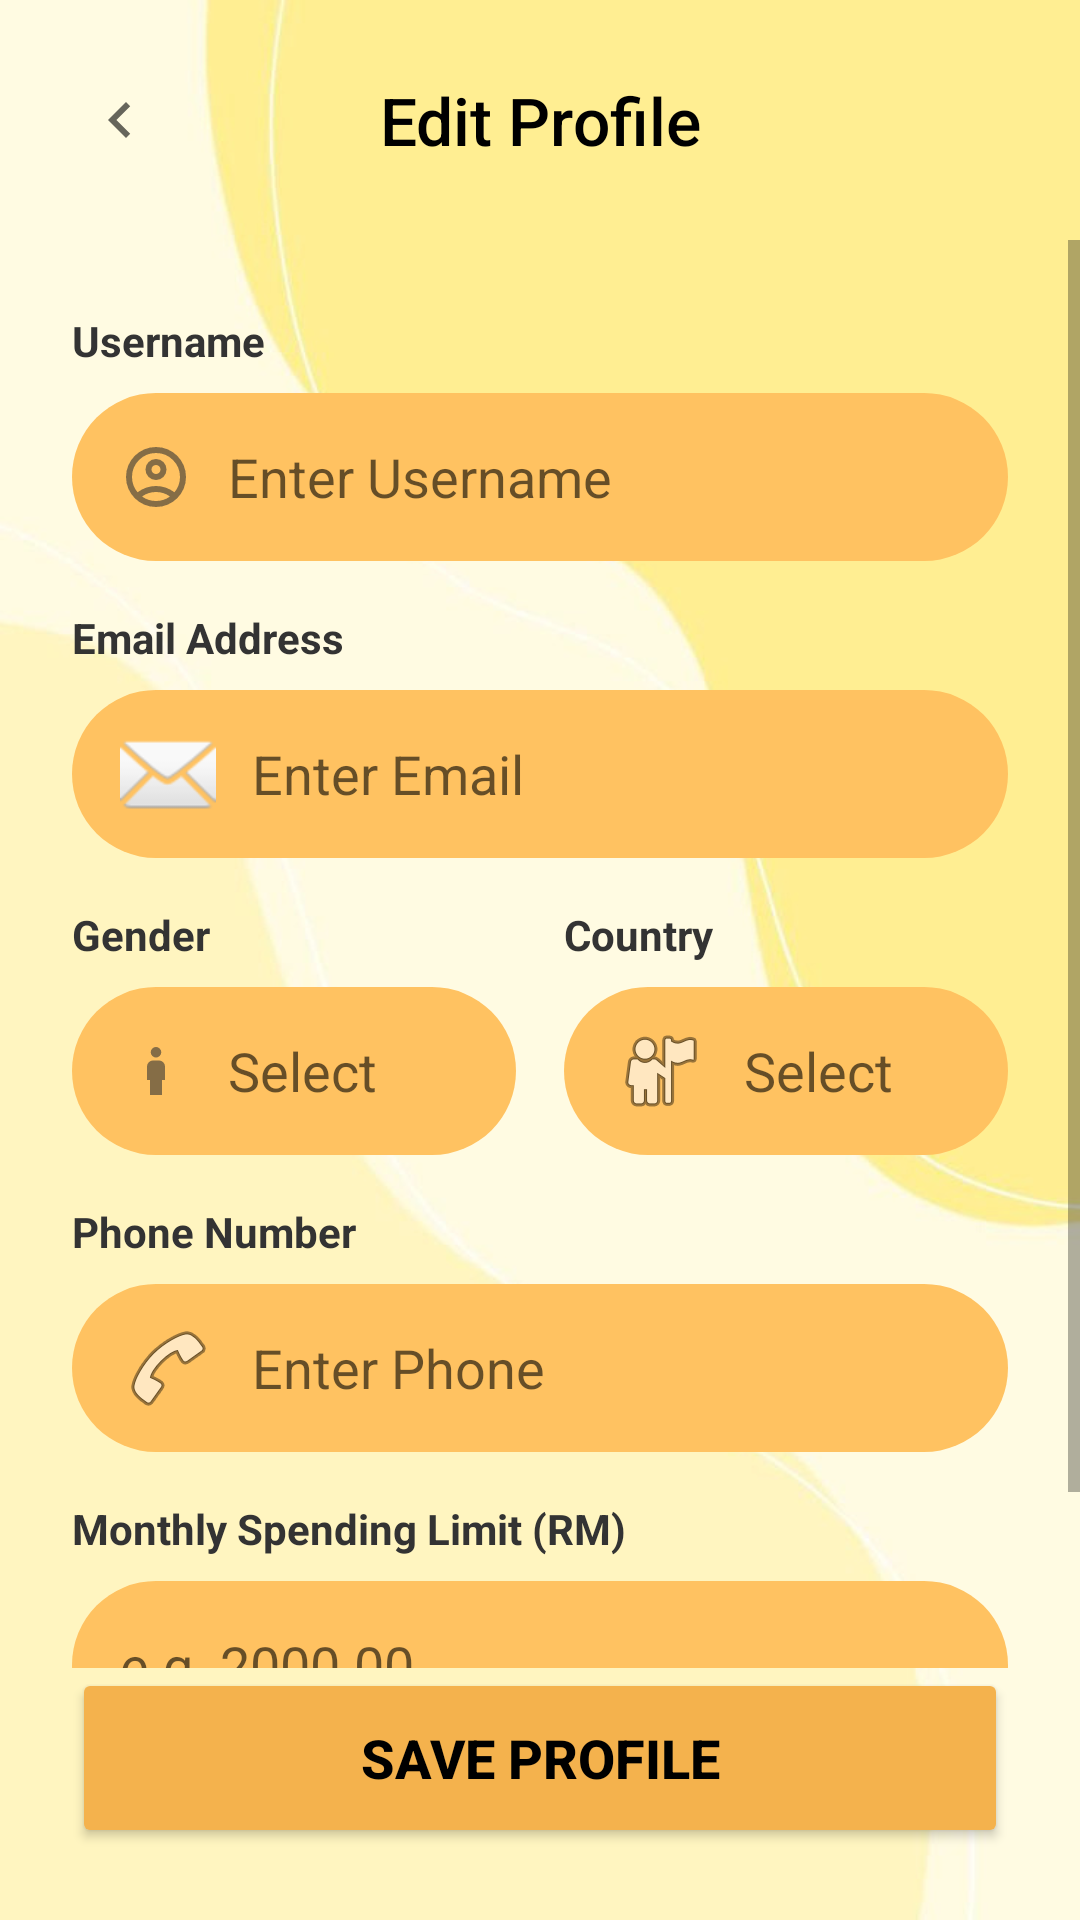

Where to tap for icons on this 1080x1920 app screen, as [x,y]:
backarrow name: [119,120]
